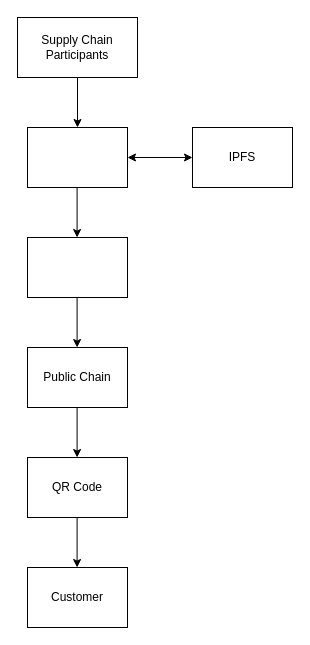
The diagram is 310 pixels wide and 645 high, and some of its shapes have lost their labels. The shapes that lost their labels are listed below. From the top down, each one's centre as x and y in pixels, then its label:
At [77,157]: "Private Chain".
At [77,267]: "Anchor Gateway".
